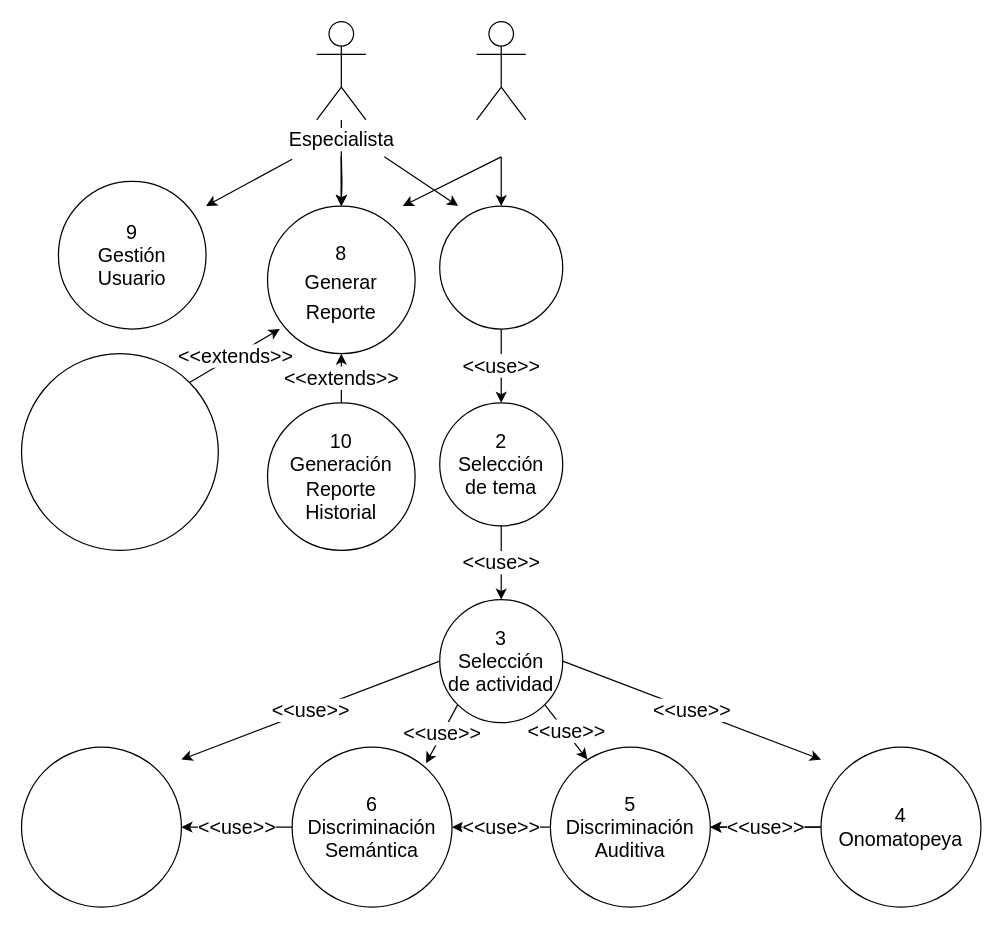
Some shapes in this 1002 by 929 pixel diagram are drawn without their labels. Here are the shapes that lost their labels. From the top down, the centre of each, then its label:
the point at 500,70: Jugador
the point at 500,267: 1 Selección de temática
the point at 119,451: 11 Generación Reporte Cantidad de interacciones realizadas
the point at 100,826: 7 Pasaje de Foto a Pictograma
